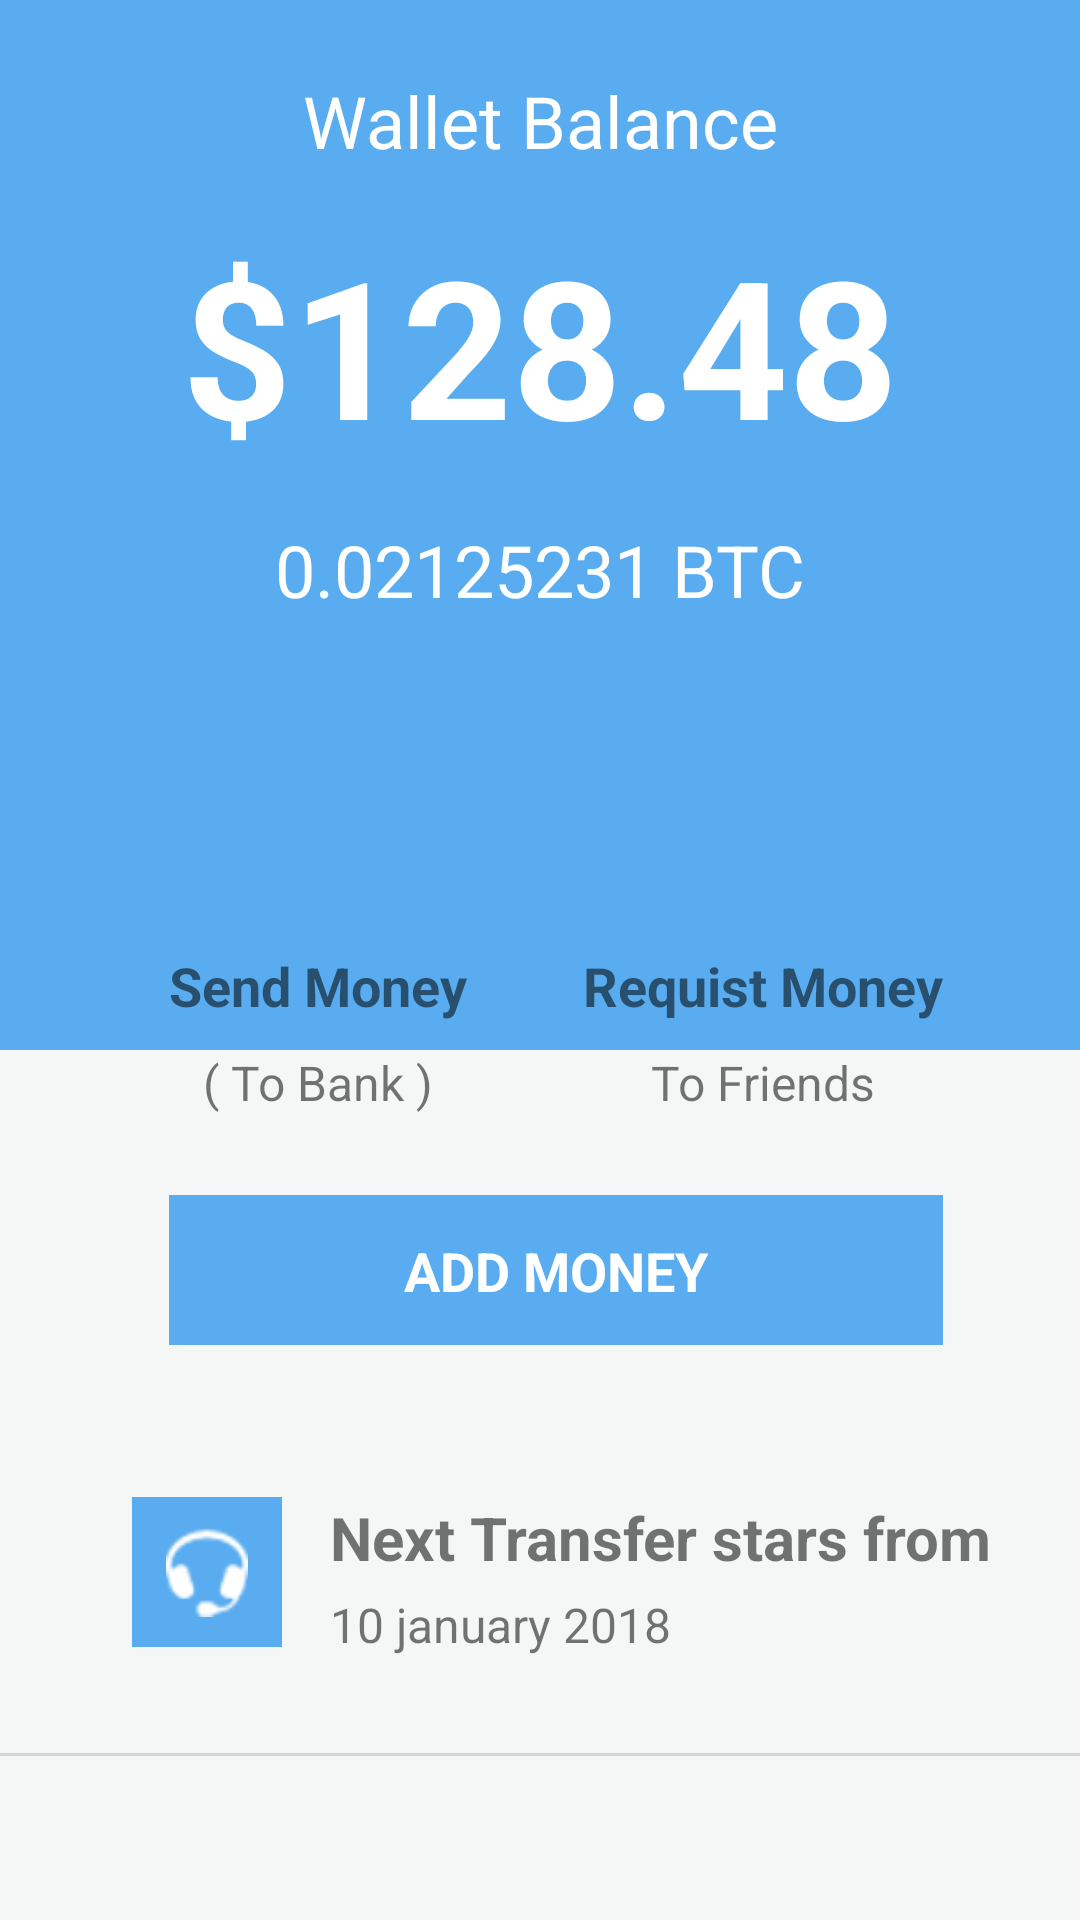

Screen size 1080px x 1920px. Icon name, then its center in pixels as (x,y):
headset: (207,1573)
